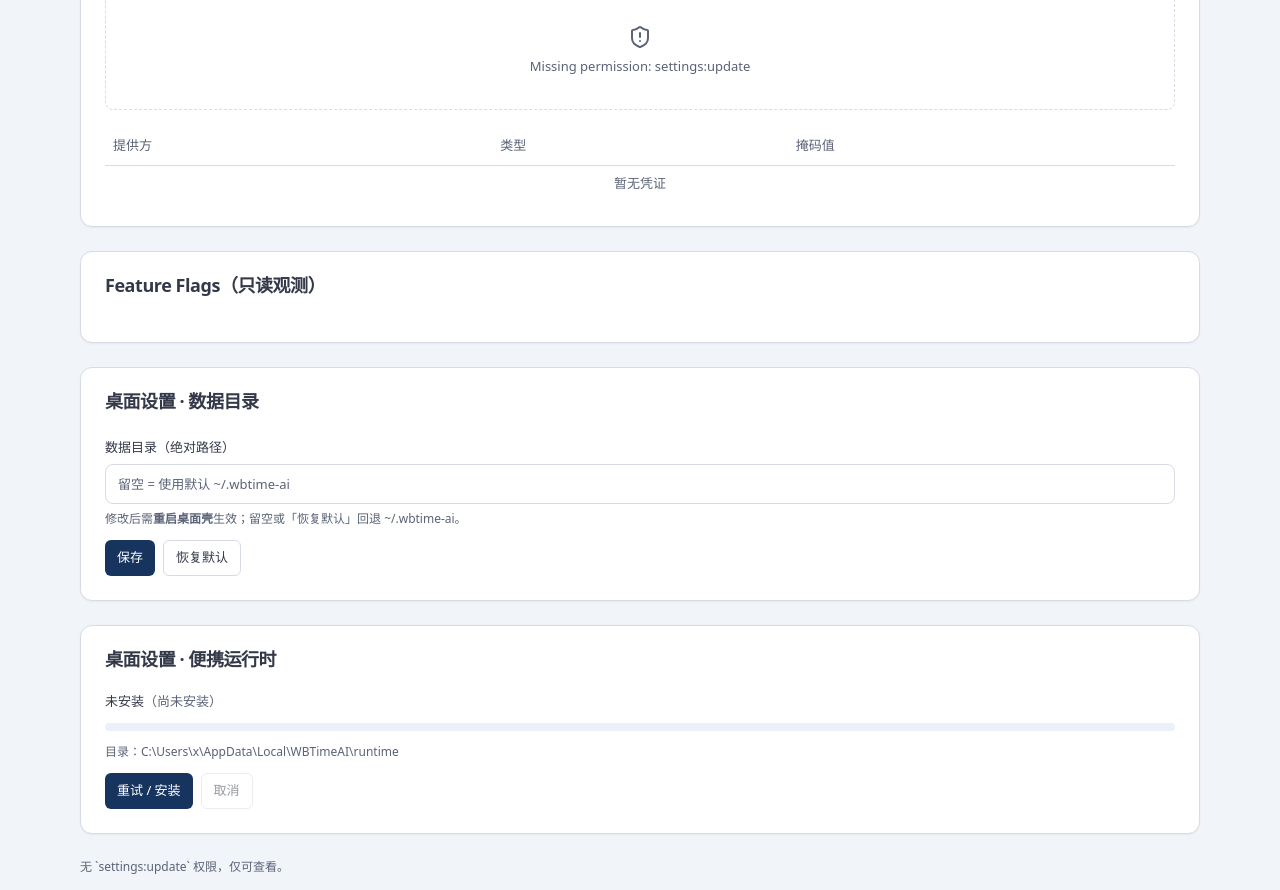
it: Settings · 桌面数据目录 Card › 保存合法绝对路径 → setSettings({ dataDir }) + 反馈
(page scrolled)
Type "D:\\NewData" into the field with test id "desktop-data-dir-input" at (640, 484), box [105, 464, 1175, 504]
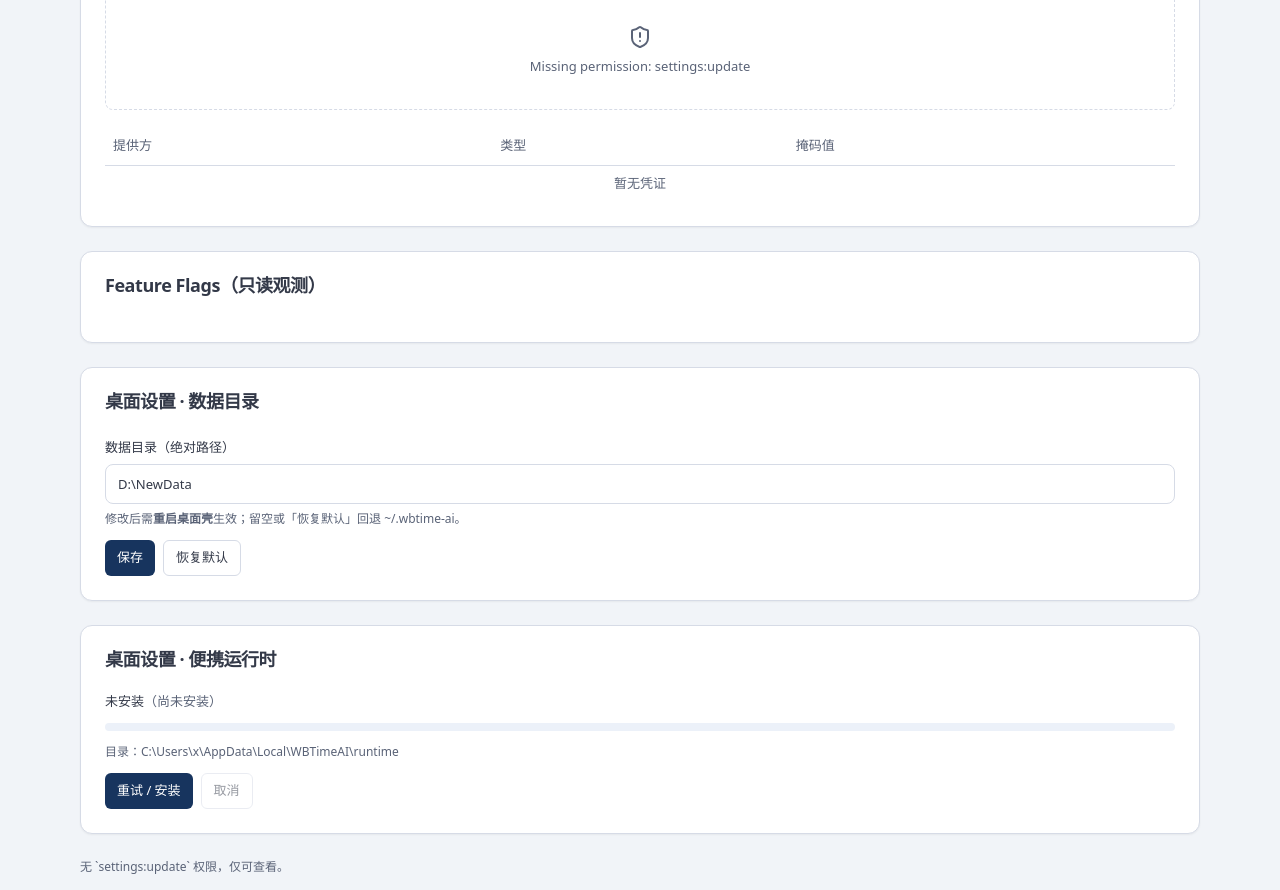
Click the button with test id "desktop-data-dir-save" at (130, 558), box [105, 540, 155, 576]
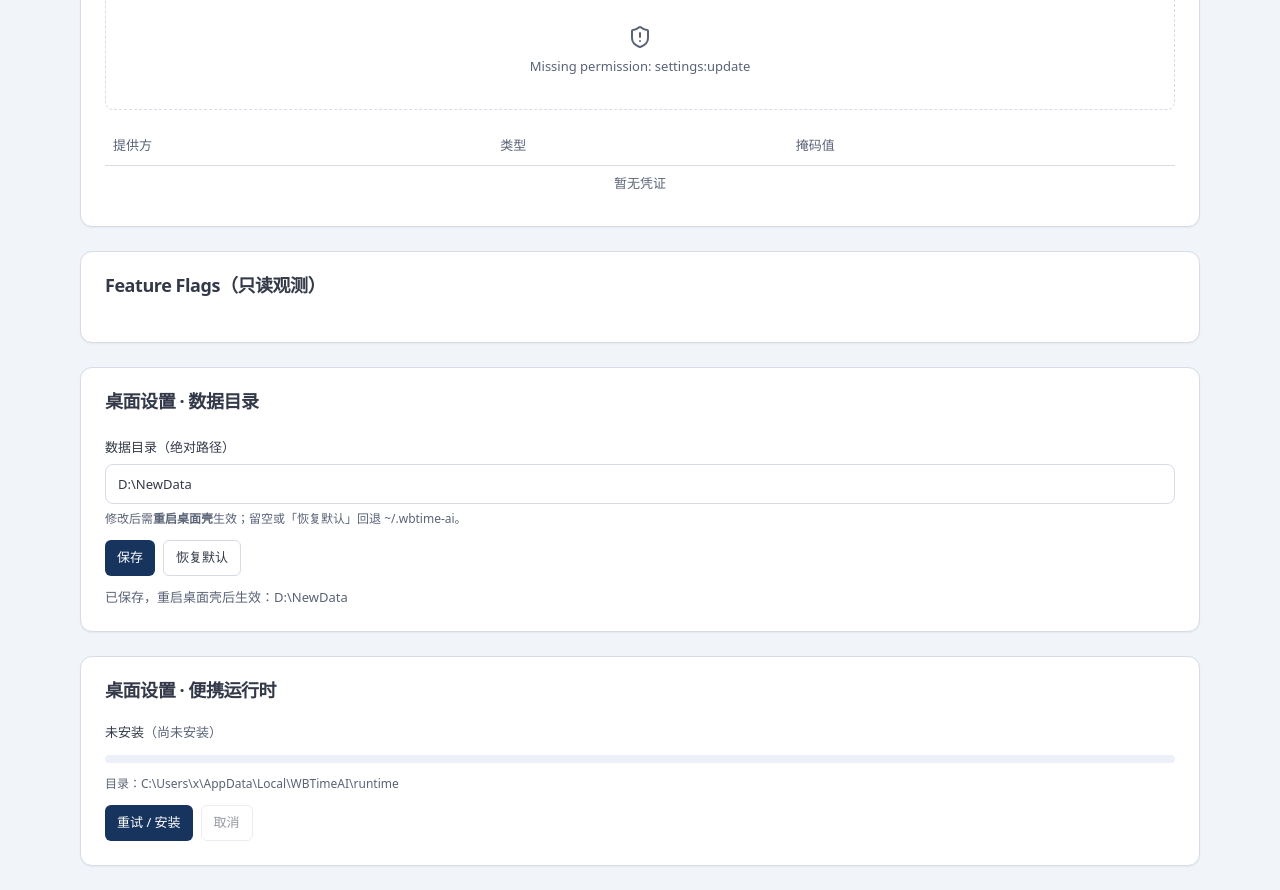
Expected: the text with test id "desktop-data-dir-feedback" reads "已保存，重启桌面壳后生效：D:\\NewData", [105, 588, 348, 606]
